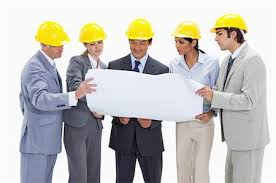Person_wearing_helmet: (208, 11, 249, 34), (123, 17, 154, 45), (78, 22, 106, 46)
